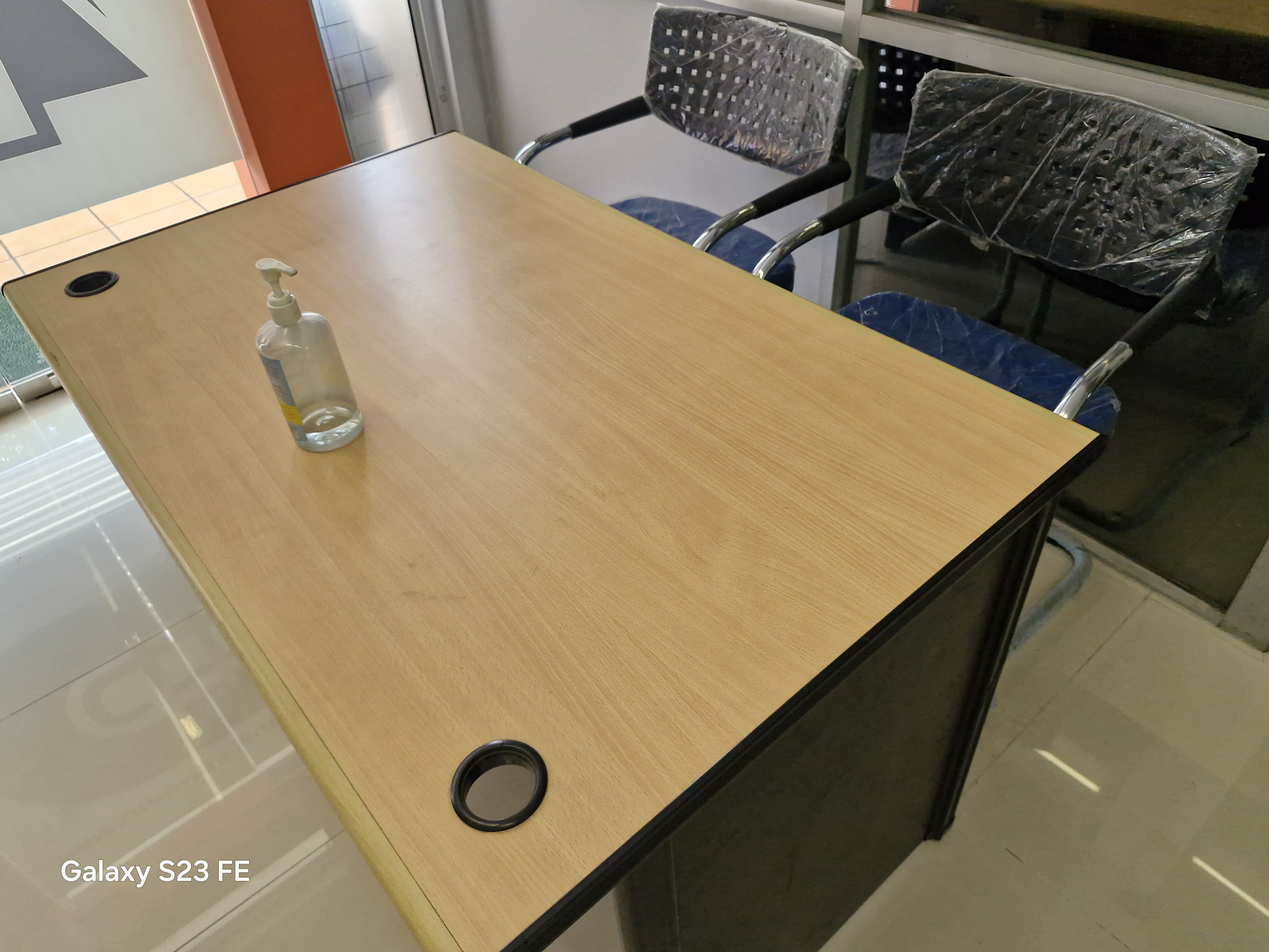bottle: (255, 259, 362, 451)
chair: (754, 71, 1256, 419), (516, 6, 861, 251)
door-stuff: (190, 0, 349, 181)
floor-other-merged: (660, 533, 1268, 951), (0, 287, 380, 951), (0, 175, 304, 285)
table-merged: (0, 133, 1102, 951)
